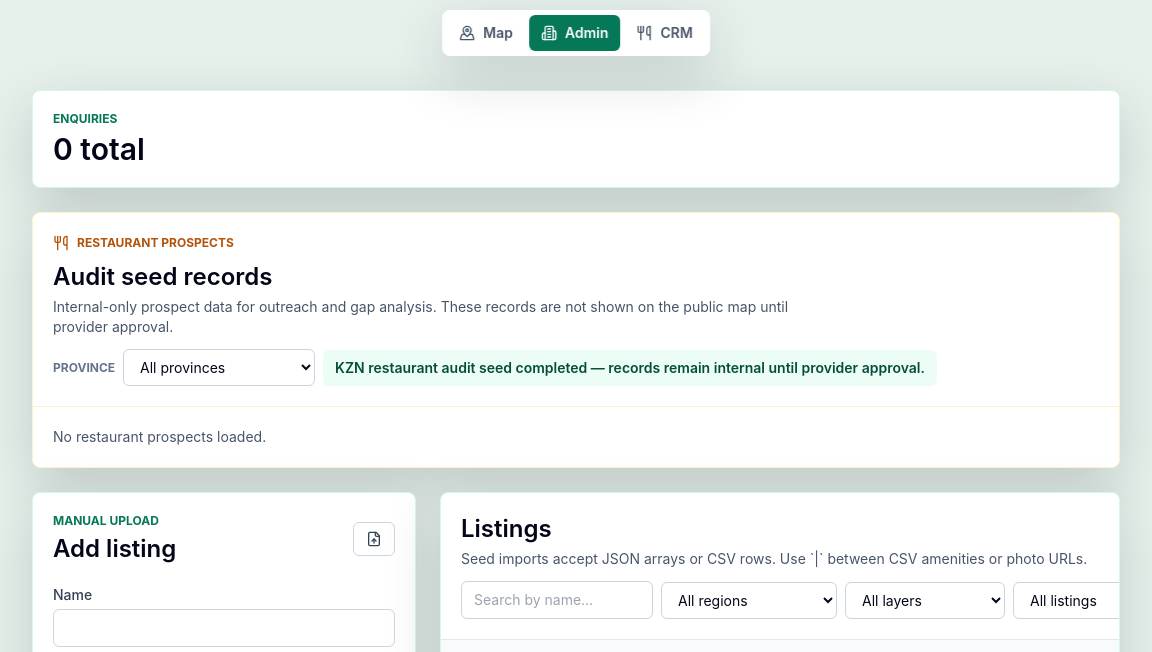
it: clearing the search restores all listings
The width and height of the screenshot is (1152, 652).
Type "gauteng" into the search field labelled "Search" at [557, 600], box top-left (461, 581), bottom-right (653, 619)
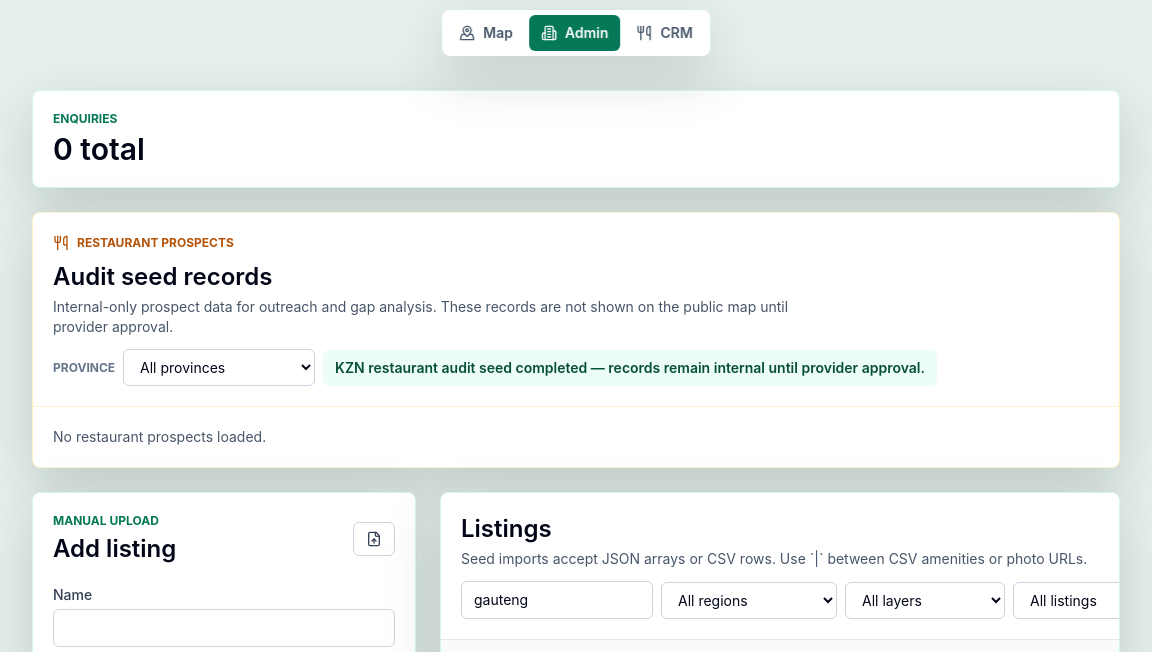
Clear the search field named "Search" at [557, 600], box top-left (461, 581), bottom-right (653, 619)
(page scrolled)
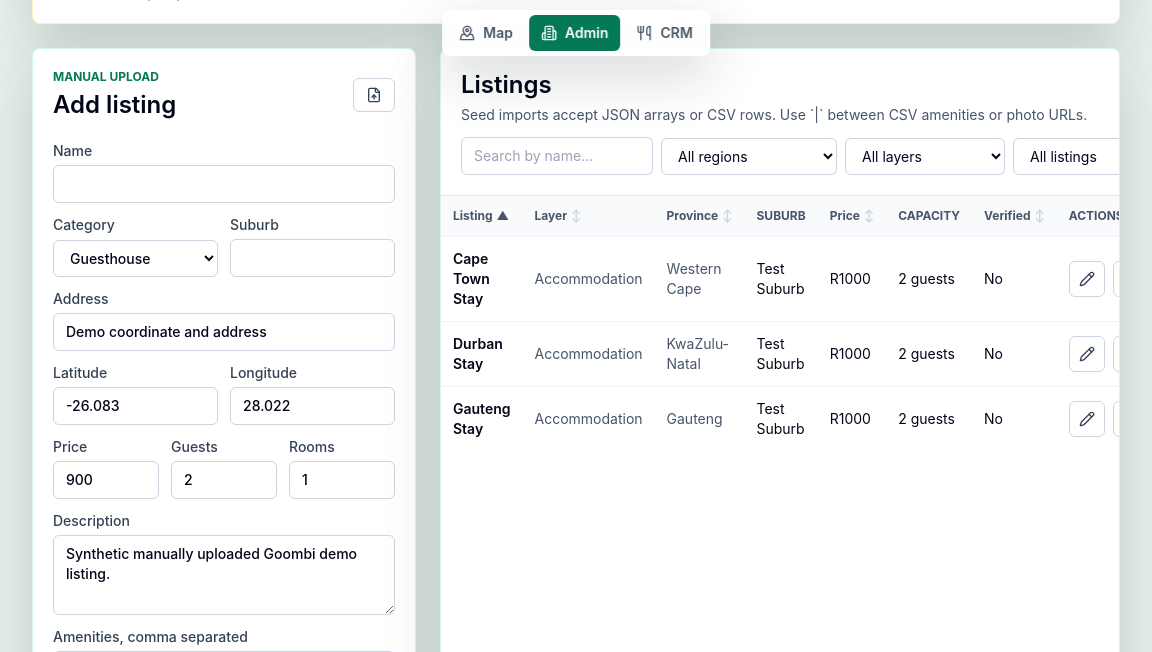
Check: the text "Cape Town Stay" is shown, box top-left (441, 236), bottom-right (522, 322)
Check: the text "Durban Stay" is shown, box top-left (441, 322), bottom-right (522, 386)
